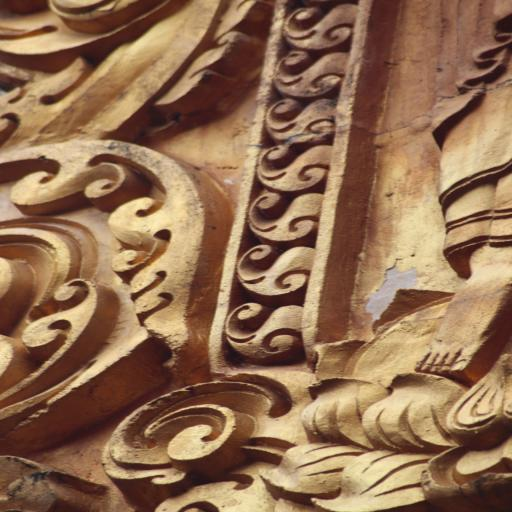la: (300, 374, 512, 512), (101, 368, 291, 493)
lua: (236, 236, 314, 299), (226, 299, 308, 358), (257, 135, 327, 194), (249, 191, 327, 243), (291, 0, 355, 53), (269, 96, 336, 144), (278, 50, 340, 97)
